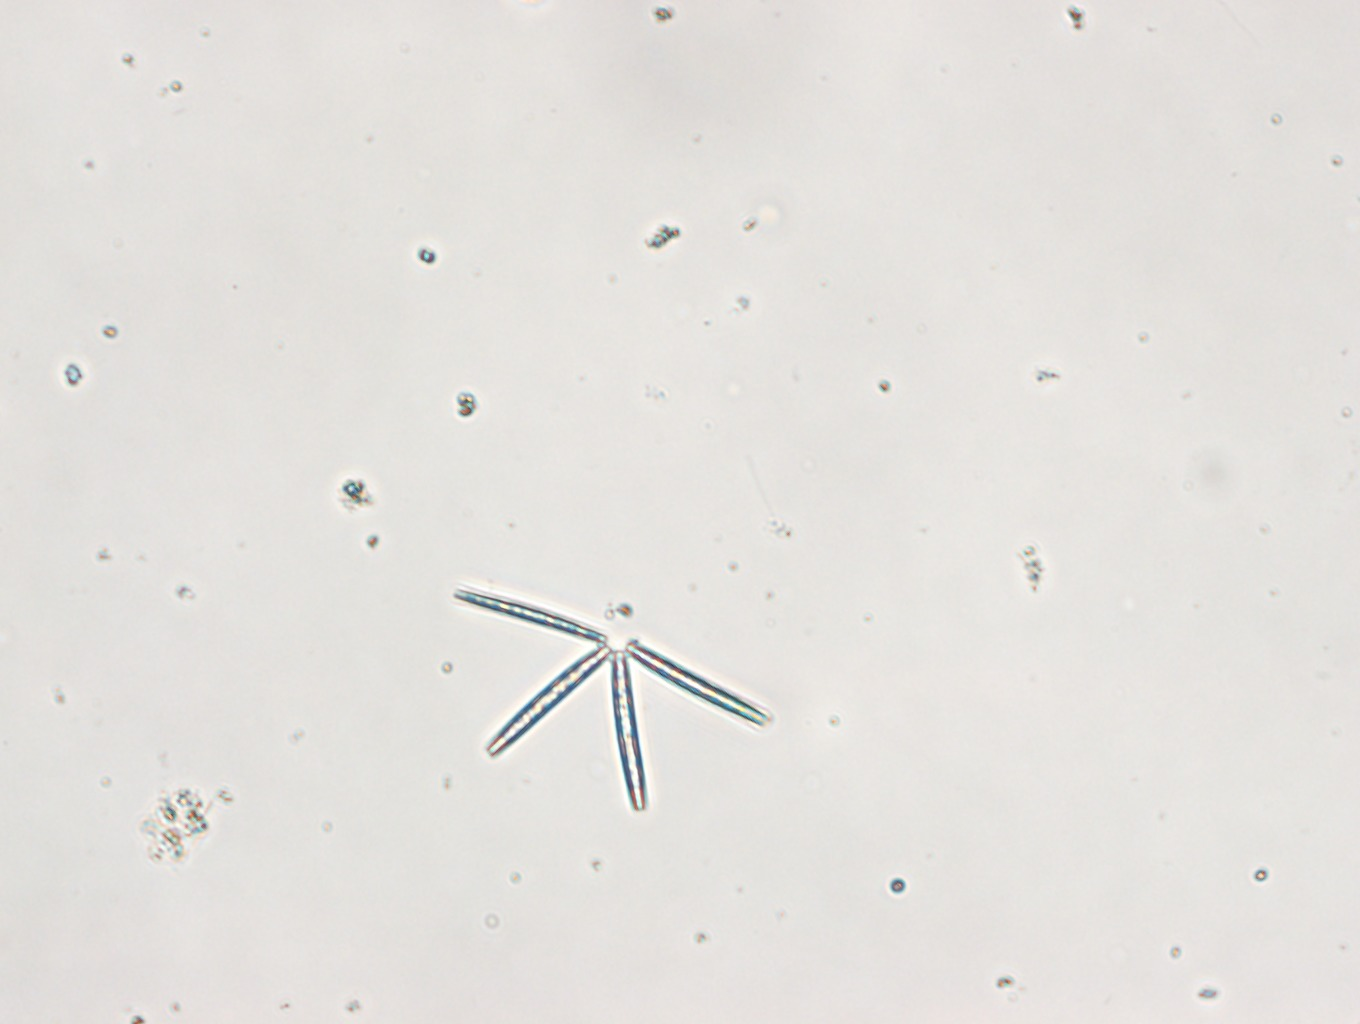thalassionema nitzschioides: (450, 585, 769, 814)
